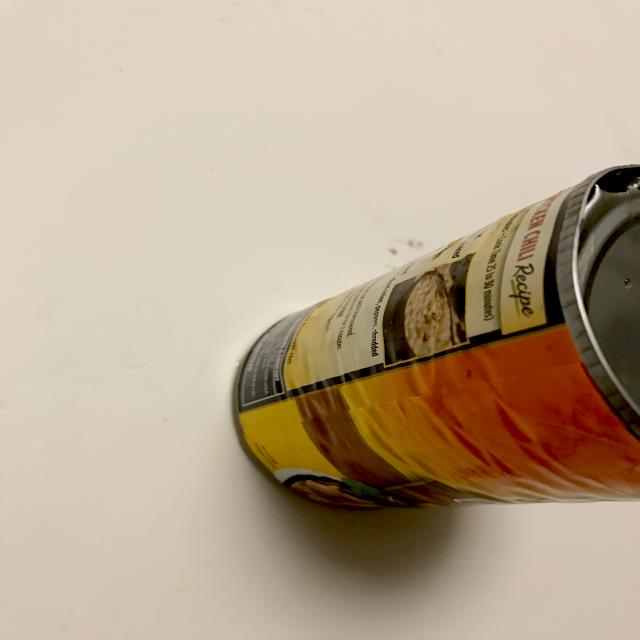Metal: (230, 136, 640, 542)
